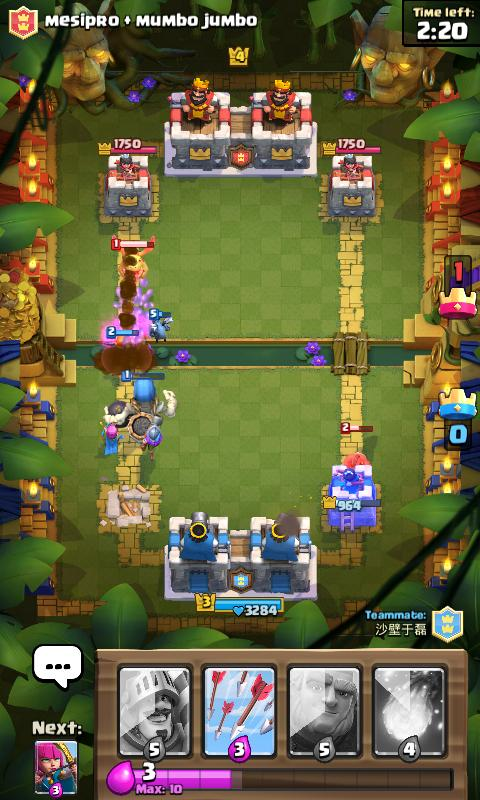ally_archer: (97, 421, 123, 455)
ally_giant_skeleton: (102, 368, 178, 442)
ally_minion: (147, 307, 174, 343)
ally_musketeer: (138, 414, 166, 462)
ally_valkyrie: (102, 324, 139, 348)
enemy_baby_dragon: (109, 233, 156, 280)
enemy_hog_rider: (339, 420, 372, 466)
